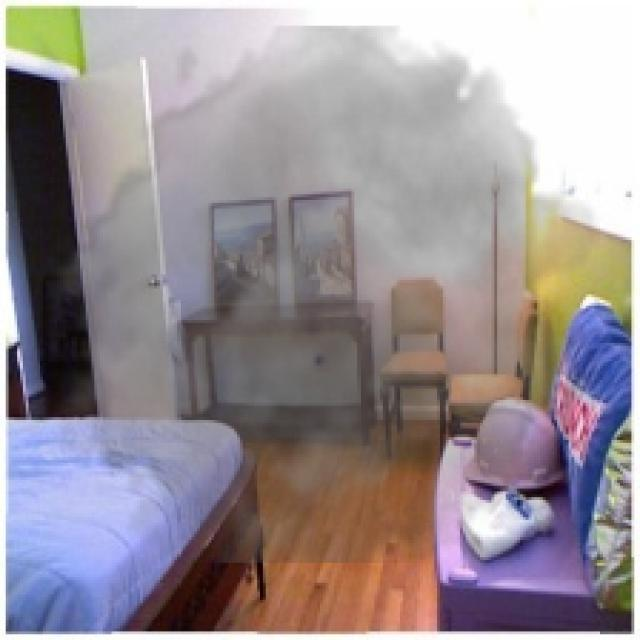Smoke: (34, 26, 600, 563)
